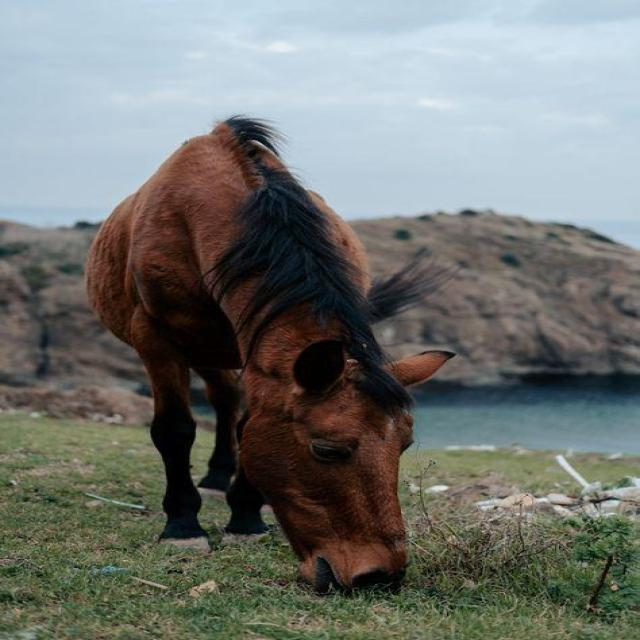horse: (84, 113, 459, 596)
